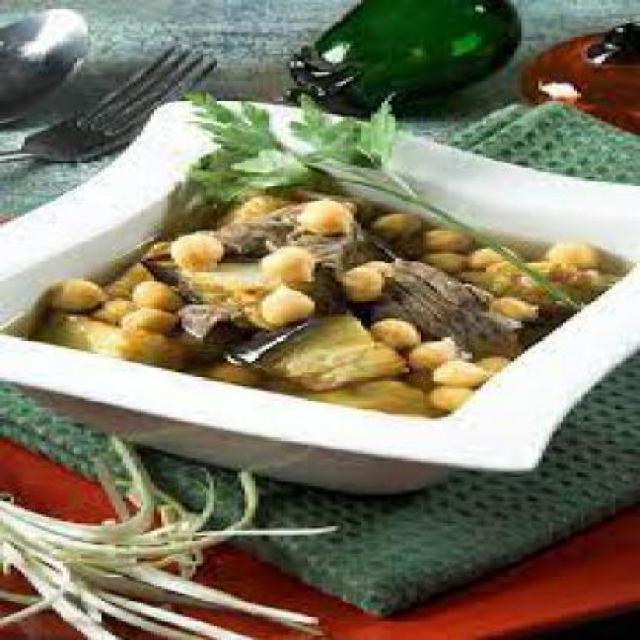eggplant: (139, 202, 504, 387)
hummus: (34, 163, 608, 431)
